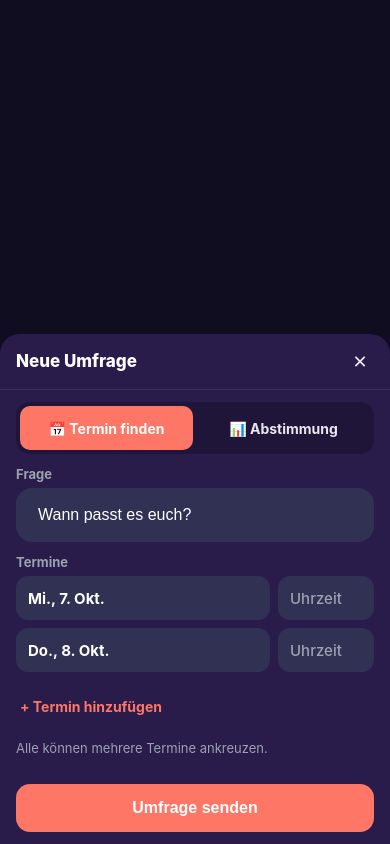
Test: PollComposerSheet › a server without the poll routes (rollback) shows our message, not "Route not found"
Click the button "Umfrage senden": (195, 808) [16,784,374,832]
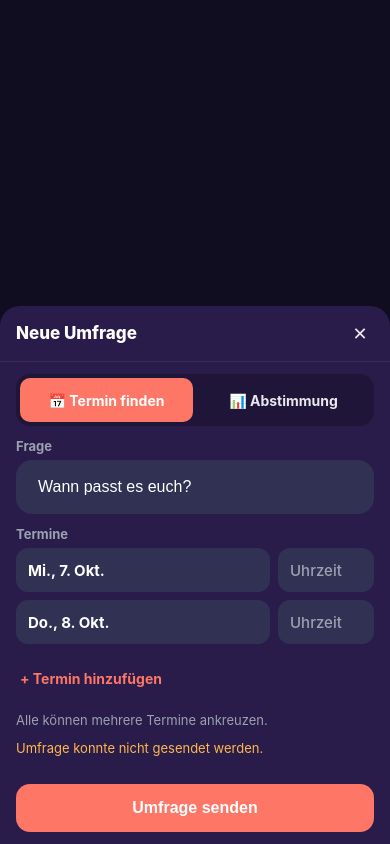
Now the text "Umfrage konnte nicht gesendet werden." is shown, box [16,740,263,756]
